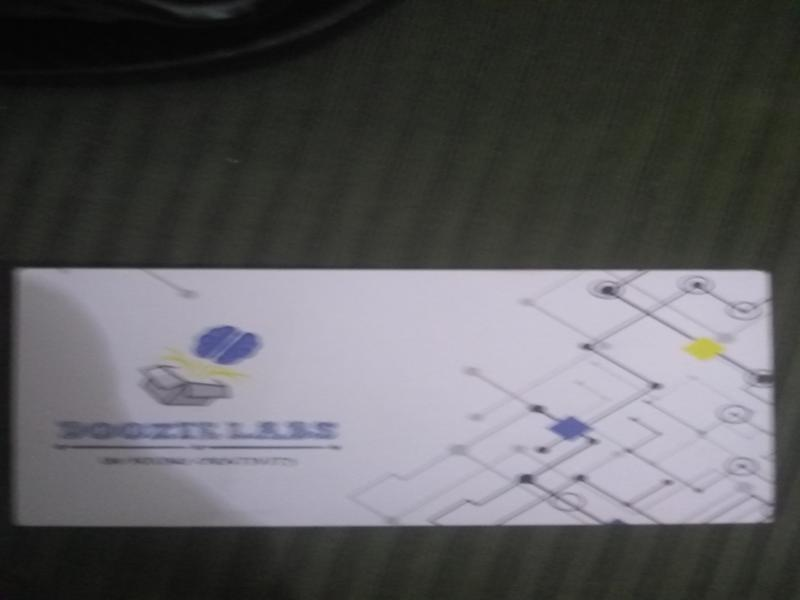back: (12, 265, 777, 527)
